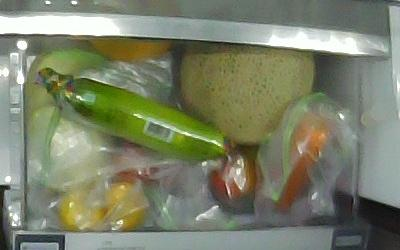carrot_vinyl: (24, 50, 109, 190), (275, 112, 330, 211)
melon: (179, 41, 316, 144)
pear: (88, 38, 173, 62)
prune_vinyl: (210, 151, 263, 202)
tangerine_vinyl: (105, 181, 145, 231), (59, 189, 105, 231)
tomato_vinyl: (110, 136, 161, 185)
zucchini: (37, 66, 238, 162)
